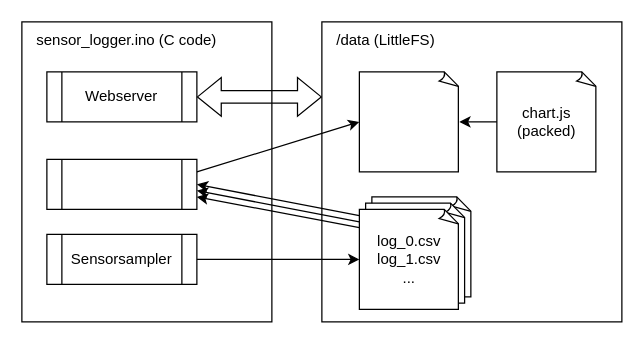
The diagram is 644 pixels wide and 344 high, and some of its shapes have lost their labels. The shapes that lost their labels are listed below. From the top down, each one's centre as x and y in pixels, then its label:
pixel 408 121: index.html
pixel 121 183: data.csv
